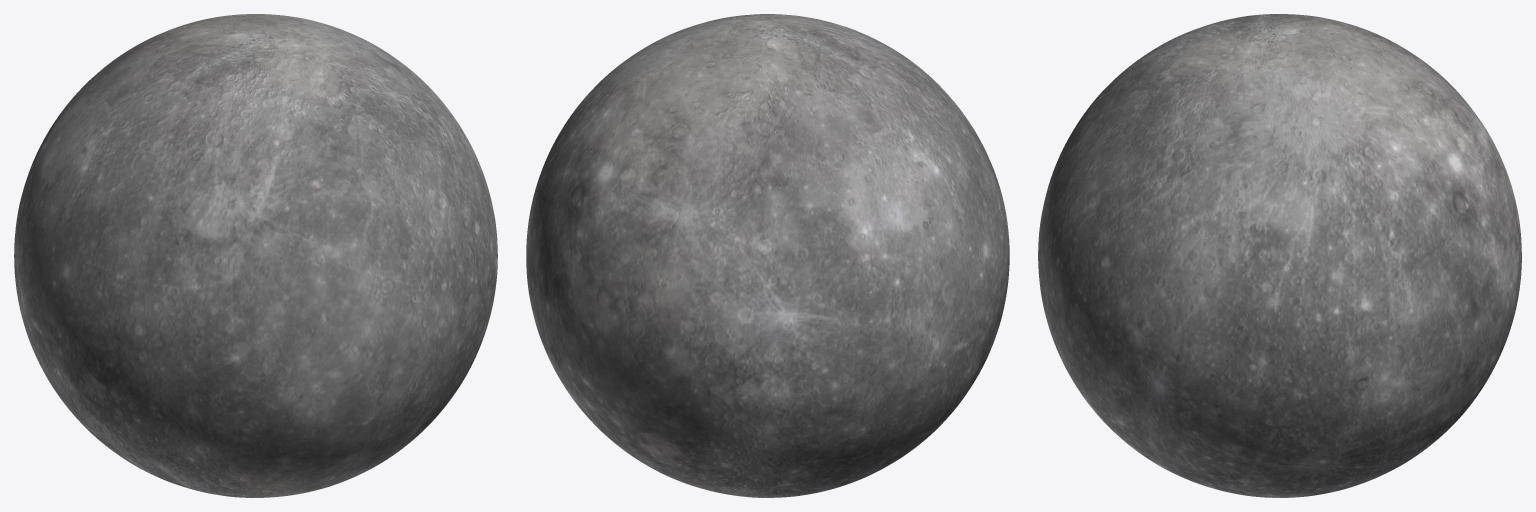
File: mercury.glb
3 renders of one model, left to right at view 1: azimuth 30°, elevation 25°; view 2: azimuth 150°, elevation 25°; view 3: azimuth 270°, elevation 25°, orthographic.
Parts seen in each view (by area): view 1: Mercury; view 2: Mercury; view 3: Mercury.
Part boxes in pixels (bbox=[...]): Mercury: bbox=[14, 14, 497, 497]; Mercury: bbox=[526, 14, 1009, 497]; Mercury: bbox=[1038, 14, 1521, 497].
Size of the model in its own units: 1.3 by 1.3 by 1.3.
1 material, 1 textured.
